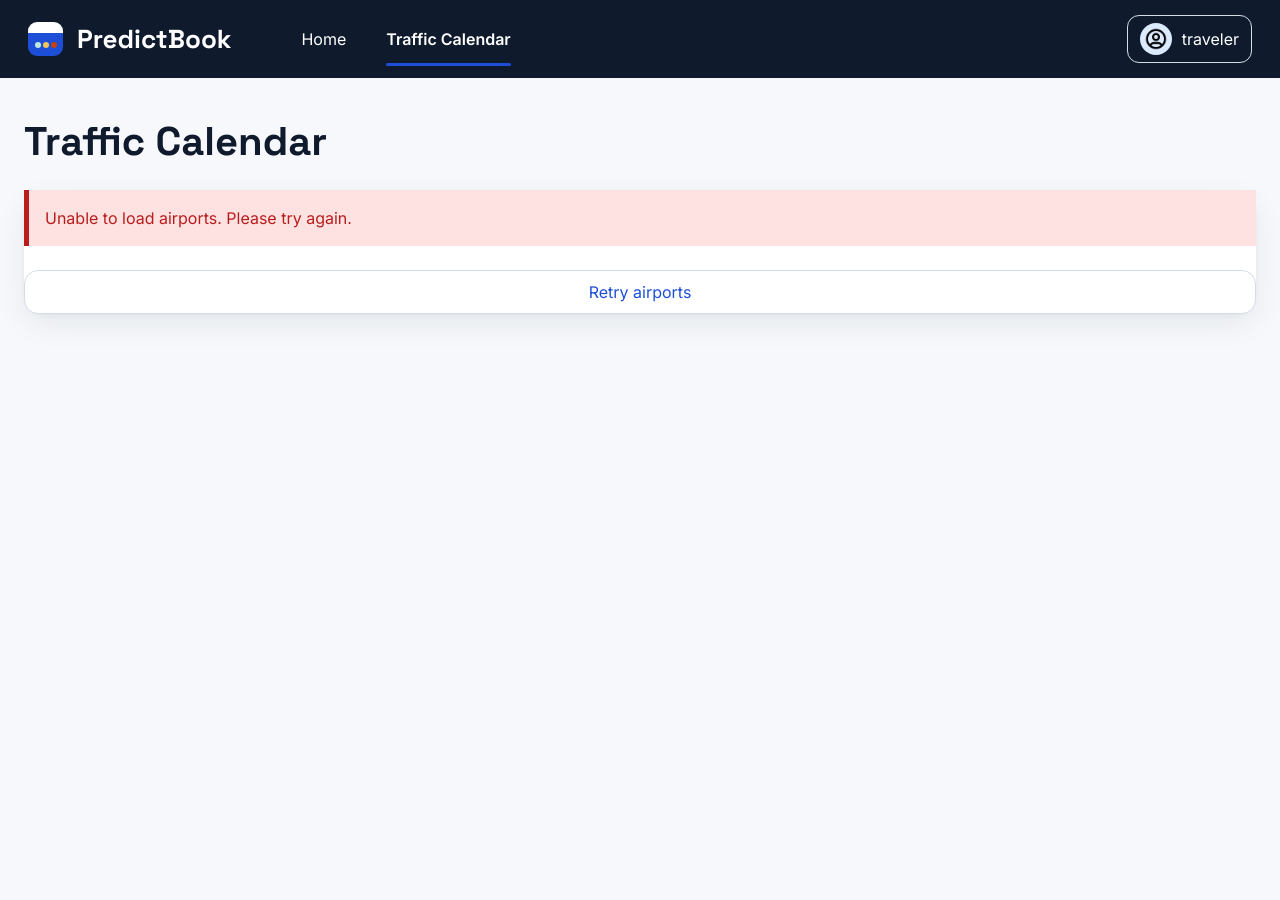
Scenario: allows airport lookup retry
This screenshot has width=1280, height=900.
Expected: the message "Unable to load airports. Please try again." is shown, [24, 190, 1256, 246]
Click the button with class "calendar-text-button" at (640, 292), box [24, 270, 1256, 314]
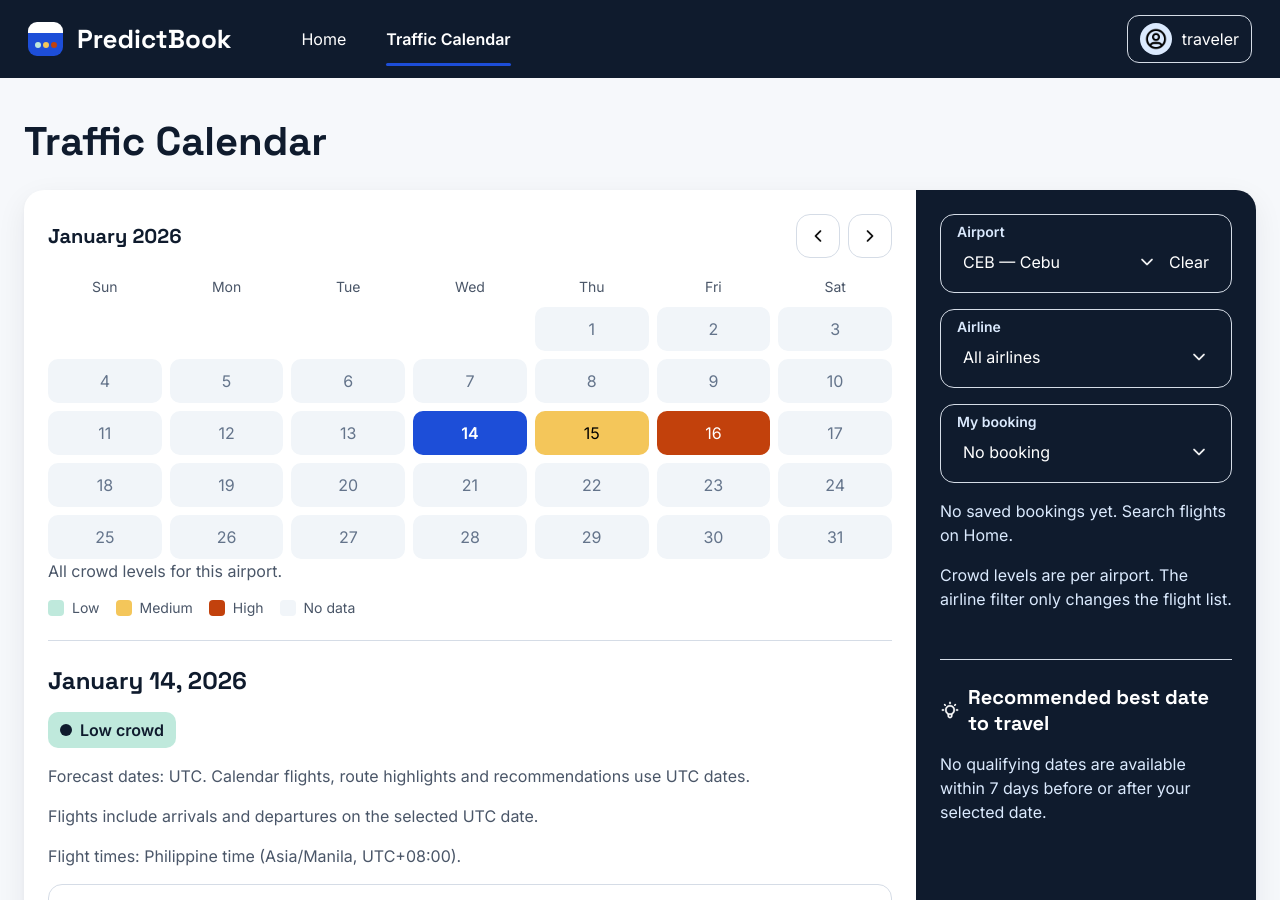
Expected: the dropdown labelled "CEB — Cebu" is shown, [957, 240, 1163, 284]
